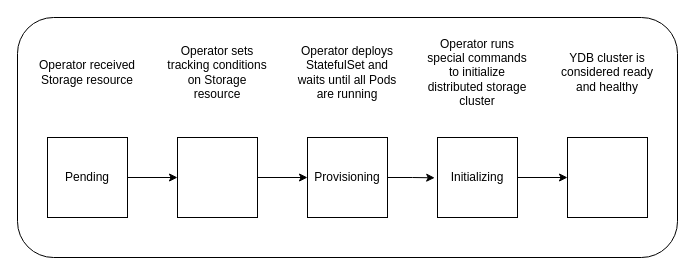
Some shapes in this 695 by 275 pixel diagram are drawn without their labels. The shapes that lost their labels are listed below. From the top down, each one's centre as x and y in pixels, then its label:
the point at 217,177: Preparing
the point at 607,177: Ready
